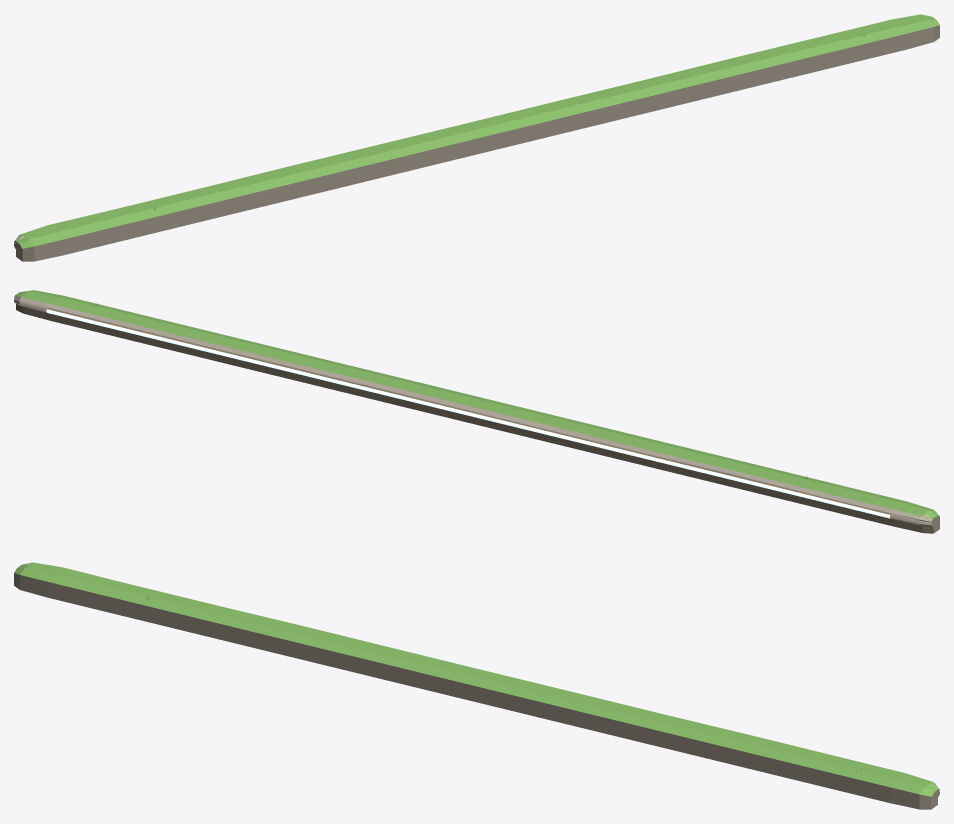
File: falls-lip.glb
The picture shows the model from 3 angles, top to bottom: view 1: azimuth 30°, elevation 25°; view 2: azimuth 150°, elevation 25°; view 3: azimuth 330°, elevation 25°; orthographic projection.
Visible parts, largest first — view 1: falls-lip; view 2: falls-lip; view 3: falls-lip.
Boxes of the visible parts, left/top/right/bottom form: falls-lip: left=14, top=14, right=939, bottom=261; falls-lip: left=14, top=290, right=939, bottom=533; falls-lip: left=14, top=562, right=939, bottom=809.
Bounding box in the file's own units: 124 × 2.75 × 4.
